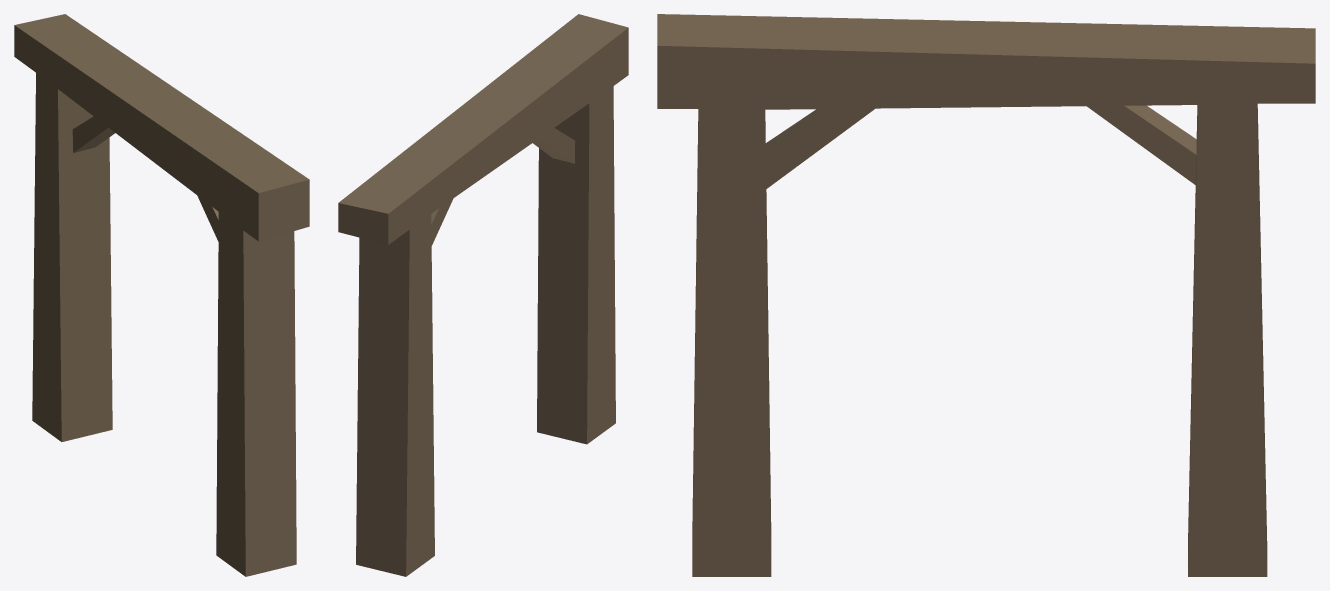
The model's file is MineFrame06.fbx.
The picture shows the model from 3 angles, left to right: view 1: azimuth 30°, elevation 25°; view 2: azimuth 150°, elevation 25°; view 3: azimuth 270°, elevation 25°; orthographic projection. The views are drawn at different scales.
Parts seen in each view (by area): view 1: MineFrame06; view 2: MineFrame06; view 3: MineFrame06.
Boxes of the visible parts, bbox=[...] form: MineFrame06: bbox=[14, 14, 309, 576]; MineFrame06: bbox=[338, 14, 628, 576]; MineFrame06: bbox=[657, 14, 1315, 576].
Bounding box in the file's own units: 419 × 373 × 50.42.
